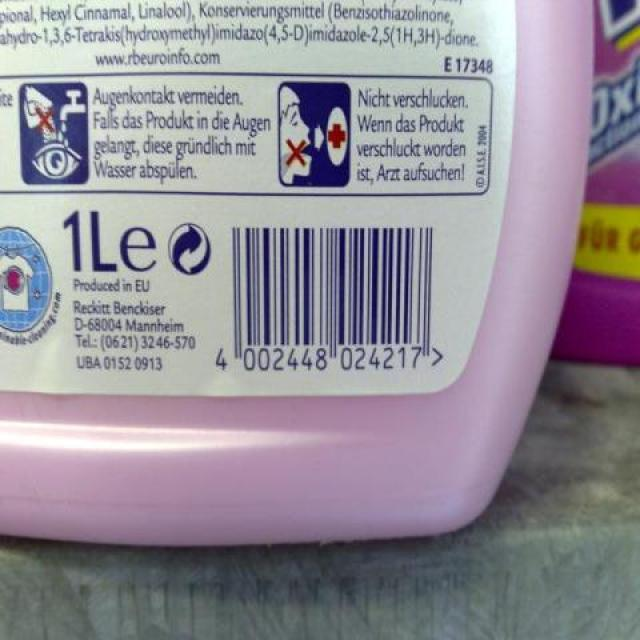Barcode: (212, 215, 449, 384)
